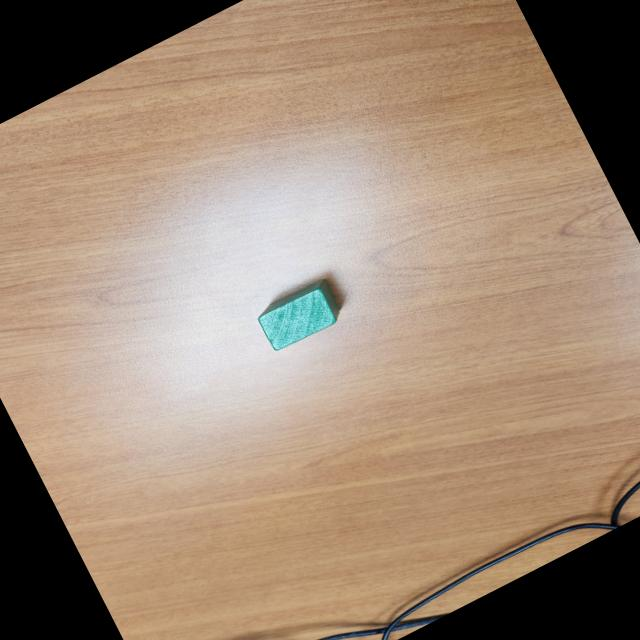green: (247, 274, 348, 356)
